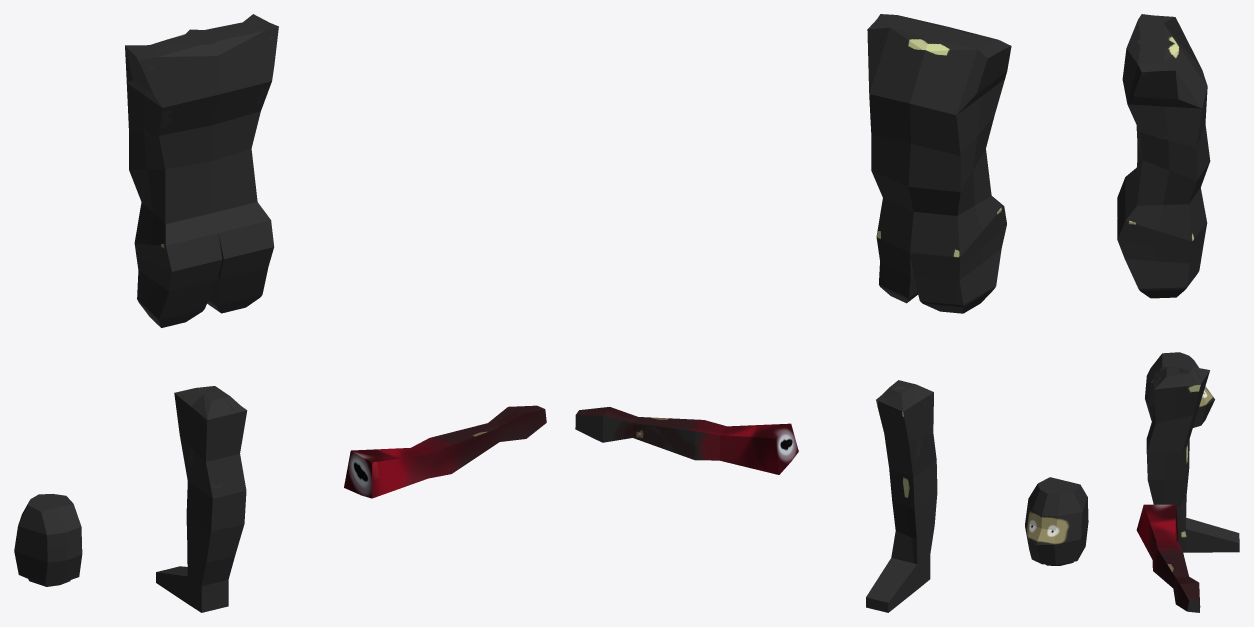
Rendered from Robber_Gibs.fbx.
3 views of the same model, side by side, from view 1: azimuth 30°, elevation 25°; view 2: azimuth 150°, elevation 25°; view 3: azimuth 270°, elevation 25° (orthographic). The views are drawn at different scales.
Parts seen in each view (by area): view 1: body, leg, arm, head; view 2: body, leg, arm, head; view 3: body, leg, arm, head.
Part boxes in pixels (x1,y1,x2,y2): body: [125, 14, 278, 327]; leg: [156, 386, 247, 612]; arm: [344, 405, 546, 498]; head: [14, 494, 82, 586]; body: [867, 14, 1011, 313]; leg: [866, 380, 937, 612]; arm: [575, 407, 798, 474]; head: [1025, 477, 1088, 565]; body: [1117, 14, 1210, 298]; leg: [1146, 367, 1239, 552]; arm: [1136, 504, 1200, 612]; head: [1145, 352, 1214, 427].
Size of the model in its own units: 425 by 444 by 98.55.
Materials: 4 (4 with a texture image).
